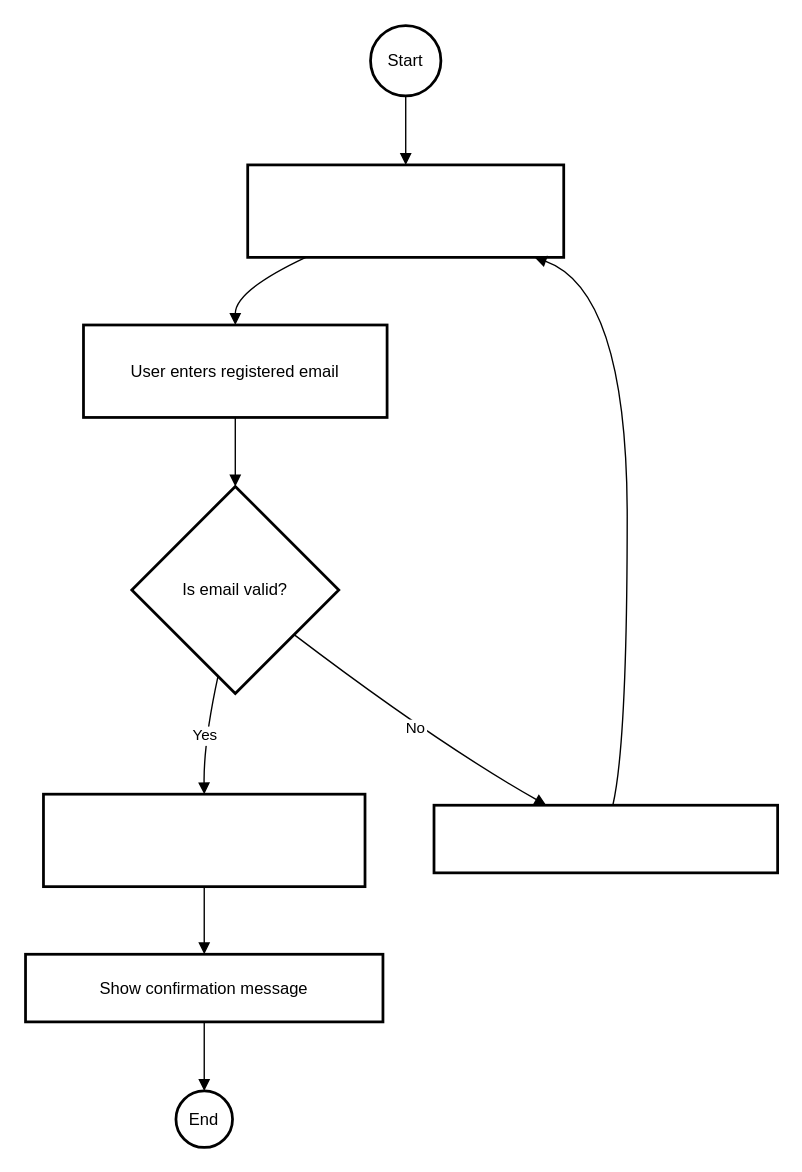
This 802x1172 diagram has some shape labels left out. The box of each missing label's shape, as (x1, y1, x2, y2) in pixels:
Display invalid email error: (432, 803, 778, 874)
Send password recovery email: (41, 792, 366, 887)
User accesses password recovery page: (246, 163, 564, 258)
